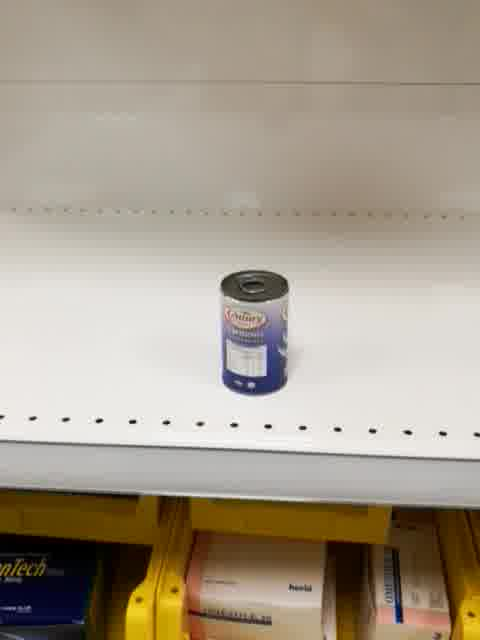sardine: (219, 267, 291, 394)
